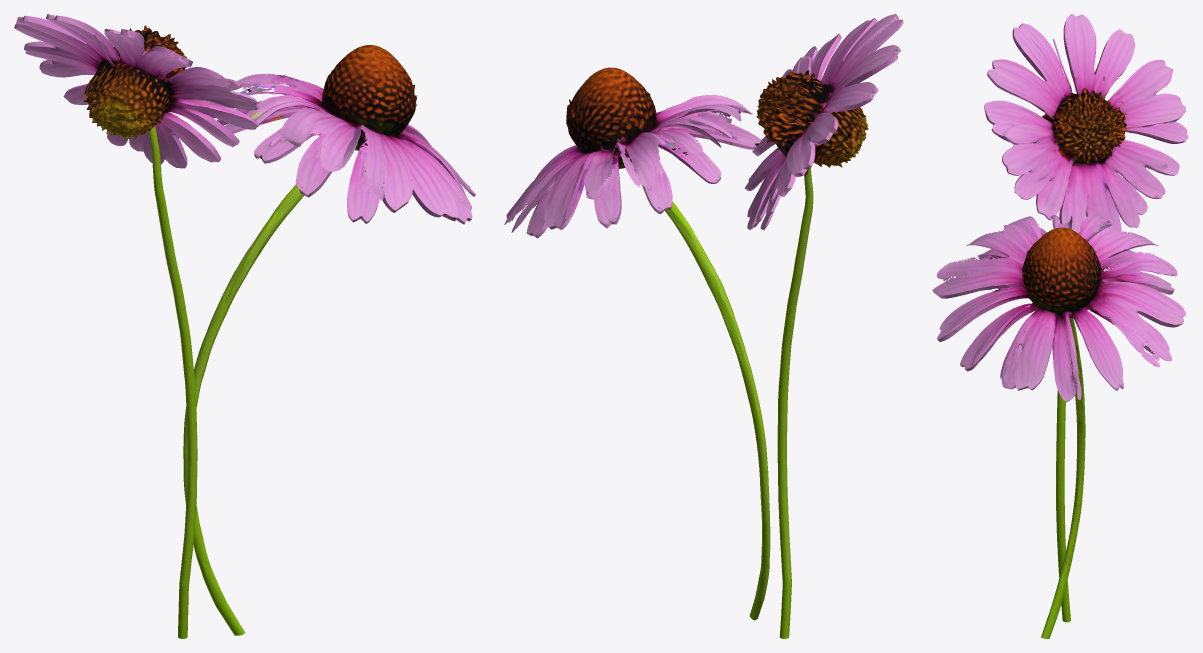
Rendered from echinacea.glb.
The picture shows the model from 3 angles, left to right: view 1: azimuth 30°, elevation 25°; view 2: azimuth 150°, elevation 25°; view 3: azimuth 270°, elevation 25°; orthographic projection. The views are drawn at different scales.
Parts seen in each view (by area): view 1: tripo_node_37f0de75-aa4f-40a2-a15a-c3c7a45b3571; view 2: tripo_node_37f0de75-aa4f-40a2-a15a-c3c7a45b3571; view 3: tripo_node_37f0de75-aa4f-40a2-a15a-c3c7a45b3571.
Boxes of the visible parts, bbox=[...] form: tripo_node_37f0de75-aa4f-40a2-a15a-c3c7a45b3571: bbox=[14, 14, 475, 638]; tripo_node_37f0de75-aa4f-40a2-a15a-c3c7a45b3571: bbox=[504, 14, 903, 638]; tripo_node_37f0de75-aa4f-40a2-a15a-c3c7a45b3571: bbox=[932, 14, 1188, 638].
Size of the model in its own units: 0.6386 by 1 by 0.4168.
Materials: 1 (1 with a texture image).
